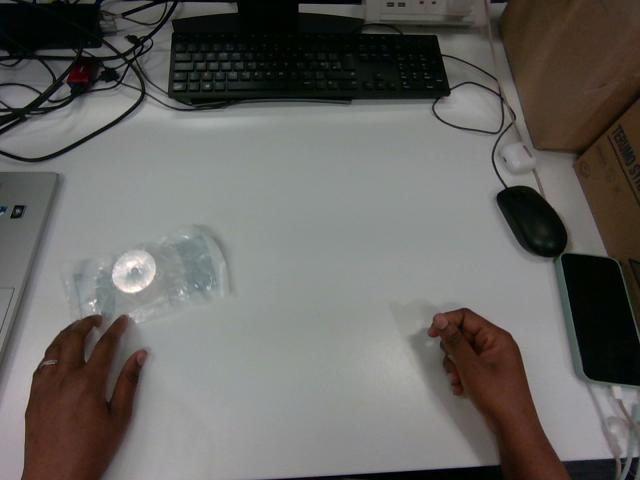gallipot: (64, 225, 227, 321)
